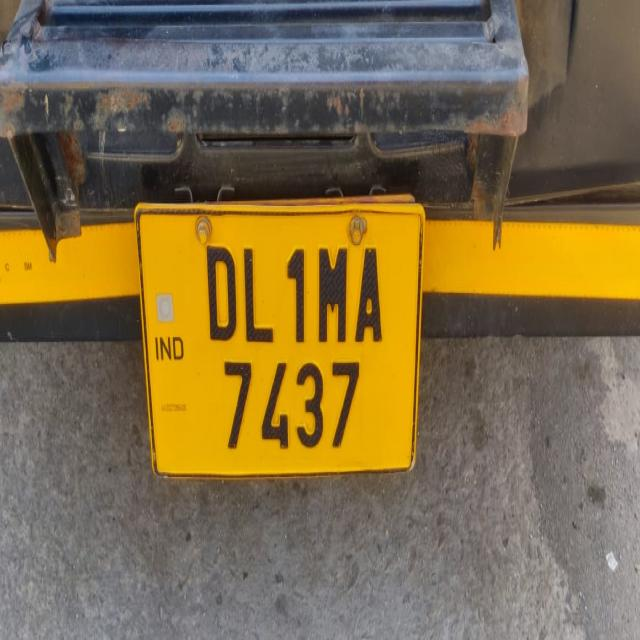License-plate: (148, 210, 399, 477)
